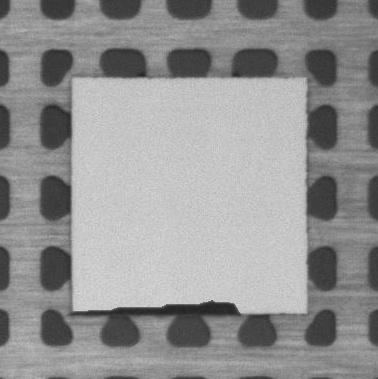DIE_BROKEN: (70, 298, 242, 314)
